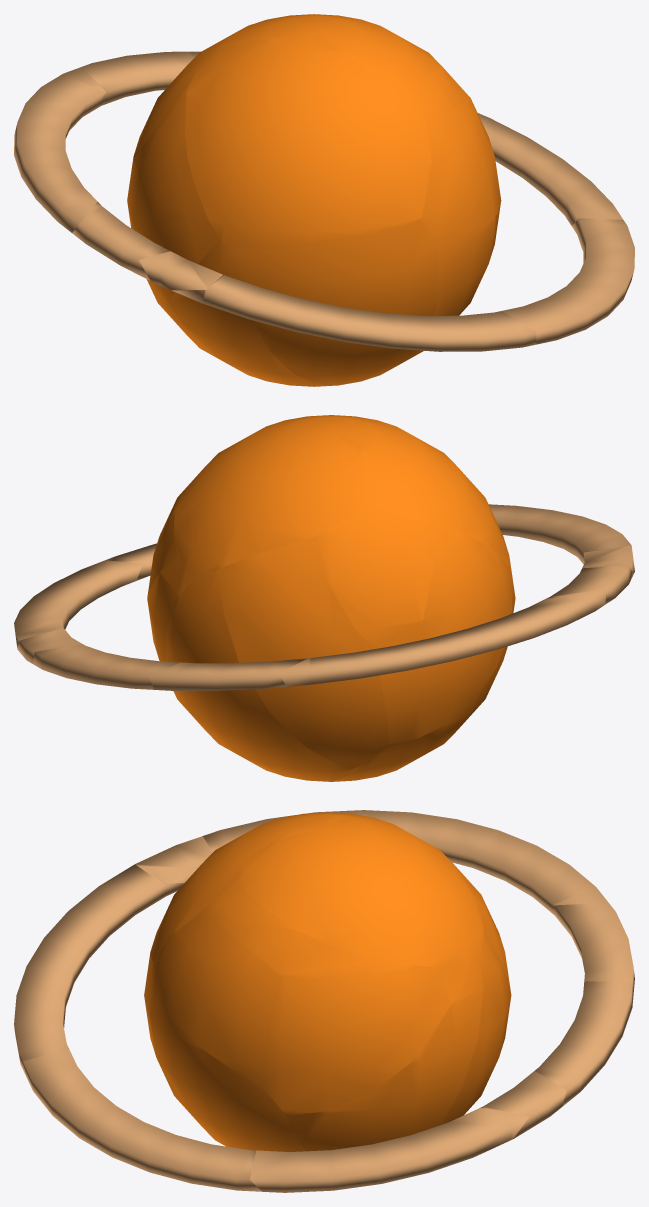
The model's file is mode_planet.FBX.
The picture shows the model from 3 angles, top to bottom: view 1: azimuth 30°, elevation 25°; view 2: azimuth 150°, elevation 25°; view 3: azimuth 270°, elevation 25°; orthographic projection.
Parts seen in each view (by area): view 1: Sphere001_Part_12, Sphere001_Part_3, Sphere001_Part_10, Sphere001_Part_13, Sphere001_Part_5, Sphere001_Part_7, Sphere001_Part_8, Sphere001_Part_4, Sphere001_Part_14, Sphere001_Part_9, Sphere001_Part_11; view 2: Sphere001_Part_9, Sphere001_Part_8, Sphere001_Part_5, Sphere001_Part_13, Sphere001_Part_6, Sphere001_Part_12, Sphere001_Part_14, Sphere001_Part_3, Sphere001_Part_15, Sphere001_Part_1, Sphere001_Part_10; view 3: Sphere001_Part_14, Sphere001_Part_8, Sphere001_Part_10, Sphere001_Part_15, Sphere001_Part_7, Sphere001_Part_3, Sphere001_Part_6, Sphere001_Part_5, Sphere001_Part_12, Sphere001_Part_11, Sphere001_Part_9, Sphere001_Part_13.
Part boxes in pixels (<box>): Sphere001_Part_12: <box>139,39,431,290</box>; Sphere001_Part_3: <box>171,220,536,385</box>; Sphere001_Part_10: <box>411,212,634,357</box>; Sphere001_Part_13: <box>72,81,219,303</box>; Sphere001_Part_5: <box>14,49,206,232</box>; Sphere001_Part_7: <box>421,100,501,234</box>; Sphere001_Part_8: <box>206,14,440,84</box>; Sphere001_Part_4: <box>169,240,328,386</box>; Sphere001_Part_14: <box>468,95,623,225</box>; Sphere001_Part_9: <box>82,51,193,106</box>; Sphere001_Part_11: <box>403,65,470,125</box>; Sphere001_Part_9: <box>149,537,388,768</box>; Sphere001_Part_8: <box>174,415,367,574</box>; Sphere001_Part_5: <box>278,508,606,686</box>; Sphere001_Part_13: <box>372,515,633,746</box>; Sphere001_Part_6: <box>33,570,352,781</box>; Sphere001_Part_12: <box>339,415,634,573</box>; Sphere001_Part_14: <box>14,488,185,646</box>; Sphere001_Part_3: <box>488,504,631,564</box>; Sphere001_Part_15: <box>17,558,196,699</box>; Sphere001_Part_1: <box>327,697,478,781</box>; Sphere001_Part_10: <box>105,543,156,580</box>; Sphere001_Part_14: <box>249,962,529,1192</box>; Sphere001_Part_8: <box>237,816,484,968</box>; Sphere001_Part_10: <box>23,986,304,1191</box>; Sphere001_Part_15: <box>288,958,566,1151</box>; Sphere001_Part_7: <box>152,912,279,1086</box>; Sphere001_Part_3: <box>14,864,200,1125</box>; Sphere001_Part_6: <box>441,936,633,1124</box>; Sphere001_Part_5: <box>284,810,608,912</box>; Sphere001_Part_12: <box>135,812,382,962</box>; Sphere001_Part_11: <box>203,879,467,973</box>; Sphere001_Part_9: <box>458,869,634,991</box>; Sphere001_Part_13: <box>203,816,283,852</box>.
Size of the model in its own units: 267 by 160 by 271.
1 material, 1 textured.
